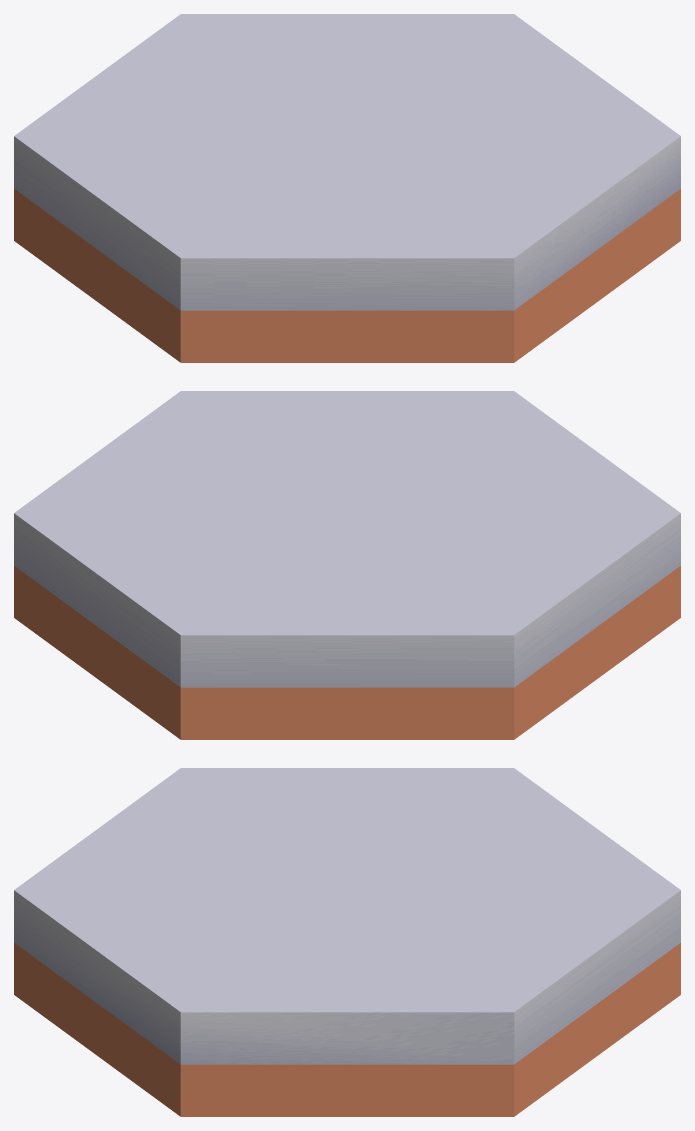
File: snow.glb
The picture shows the model from 3 angles, top to bottom: view 1: azimuth 30°, elevation 25°; view 2: azimuth 150°, elevation 25°; view 3: azimuth 270°, elevation 25°; orthographic projection.
Visible parts, largest first — view 1: snow; view 2: snow; view 3: snow.
Part boxes in pixels (x1=…): snow: x1=14, y1=14, x2=680, y2=362; snow: x1=14, y1=391, x2=680, y2=739; snow: x1=14, y1=768, x2=680, y2=1116.
Size of the model in its own units: 1 by 0.2 by 1.15.
Materials: 1 (1 with a texture image).
